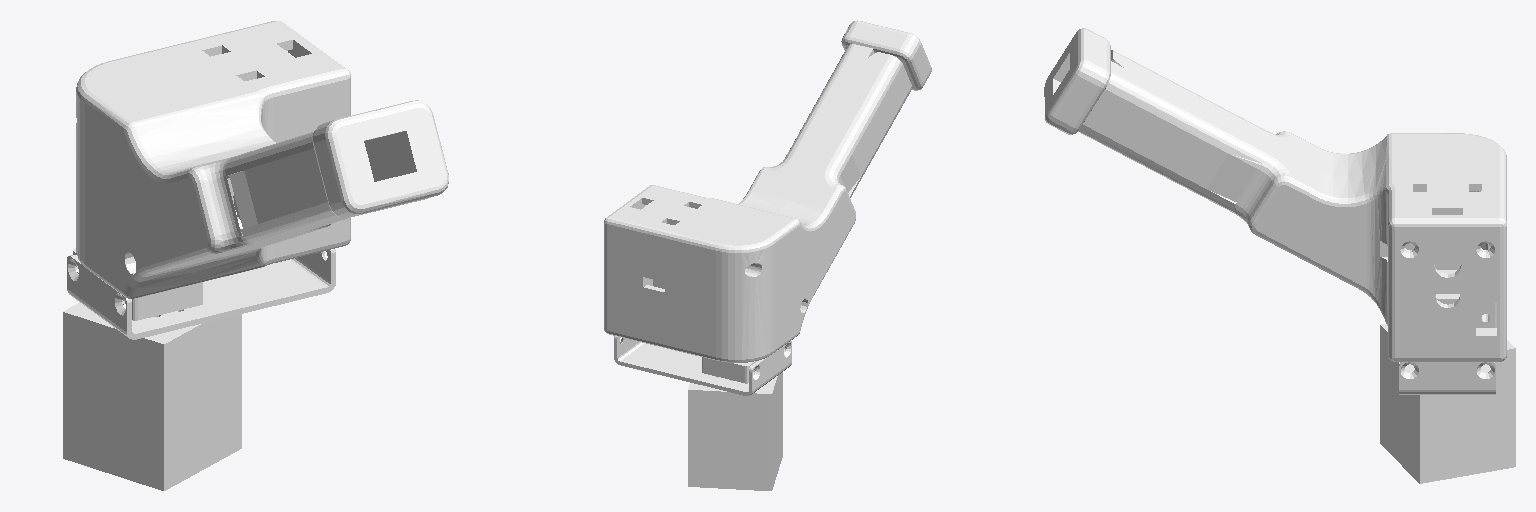
The robot description file, URDF, robot "stretch_description_S2_gripper.SLDASM":
<?xml version="1.0" encoding="utf-8"?>
<!-- This URDF was automatically created by SolidWorks to URDF Exporter! Originally created by [author] ([email redacted]) 
     Commit Version: 1.5.1-0-g916b5db  Build Version: 1.5.7152.31018
     For more information, please see http://wiki.ros.org/sw_urdf_exporter -->
<robot
  name="stretch_description_S2_gripper.SLDASM">
  <link
    name="link_wrist_yaw">
    <inertial>
      <origin
        xyz="0 -3.9E-05 -0.016495"
        rpy="0 0 0" />
      <mass
        value="0.054422" />
      <inertia
        ixx="9E-06"
        ixy="0"
        ixz="0"
        iyy="9E-06"
        iyz="0"
        izz="7E-06" />
    </inertial>
    <visual>
      <origin
        xyz="0 0 0"
        rpy="0 0 0" />
      <geometry>
        <mesh
          filename="package://stretch_description_S2_gripper.SLDASM/meshes/link_wrist_yaw.STL" />
      </geometry>
      <material
        name="">
        <color
          rgba="1 1 1 1" />
      </material>
    </visual>
    <collision>
      <origin
        xyz="0 0 0"
        rpy="0 0 0" />
      <geometry>
        <mesh
          filename="package://stretch_description_S2_gripper.SLDASM/meshes/link_wrist_yaw.STL" />
      </geometry>
    </collision>
  </link>
  <link
    name="link_gripper">
    <inertial>
      <origin
        xyz="-0.013687 0.015548 -0.035364"
        rpy="0 0 0" />
      <mass
        value="0.175929" />
      <inertia
        ixx="0.000124"
        ixy="3.7E-05"
        ixz="5.7E-05"
        iyy="0.000217"
        iyz="1.1E-05"
        izz="0.000221" />
    </inertial>
    <visual>
      <origin
        xyz="0 0 0"
        rpy="0 0 0" />
      <geometry>
        <mesh
          filename="package://stretch_description_S2_gripper.SLDASM/meshes/link_gripper.STL" />
      </geometry>
      <material
        name="">
        <color
          rgba="1 1 1 1" />
      </material>
    </visual>
    <collision>
      <origin
        xyz="0 0 0"
        rpy="0 0 0" />
      <geometry>
        <mesh
          filename="package://stretch_description_S2_gripper.SLDASM/meshes/link_gripper.STL" />
      </geometry>
    </collision>
  </link>
  <joint
    name="joint_gripper"
    type="fixed">
    <origin
      xyz="0 0 0"
      rpy="3.141592654 0 1.570796327" />
    <parent
      link="link_wrist_yaw" />
    <child
      link="link_gripper" />
    <axis
      xyz="0 0 0" />
  </joint>
  <link
    name="link_gripper_finger_right">
    <inertial>
      <origin
        xyz="-0.093921 -0.011351 0"
        rpy="0 0 0" />
      <mass
        value="0.06" />
      <inertia
        ixx="1.1E-05"
        ixy="3.6E-05"
        ixz="0"
        iyy="0.000213"
        iyz="0"
        izz="0.000223" />
    </inertial>
    <visual>
      <origin
        xyz="0 0 0"
        rpy="0 0 0" />
      <geometry>
        <mesh
          filename="package://stretch_description_S2_gripper.SLDASM/meshes/link_gripper_finger_right.STL" />
      </geometry>
      <material
        name="">
        <color
          rgba="1 1 1 1" />
      </material>
    </visual>
    <collision>
      <origin
        xyz="0 0 0"
        rpy="0 0 0" />
      <geometry>
        <mesh
          filename="package://stretch_description_S2_gripper.SLDASM/meshes/link_gripper_finger_right.STL" />
      </geometry>
    </collision>
  </link>
  <joint
    name="joint_gripper_finger_right"
    type="revolute">
    <origin
      xyz="-0.02558069591 0.01004924142 -0.03429"
      rpy="-3.141592654 -0.5235987756 0" />
    <parent
      link="link_gripper" />
    <child
      link="link_gripper_finger_right" />
    <axis
      xyz="0 0 1" />
    <limit
      lower="0"
      upper="0"
      effort="0"
      velocity="0" />
  </joint>
  <link
    name="link_gripper_fingertip_right">
    <inertial>
      <origin
        xyz="0 0 0.008126"
        rpy="0 0 0" />
      <mass
        value="0.003822" />
      <inertia
        ixx="0"
        ixy="0"
        ixz="0"
        iyy="0"
        iyz="0"
        izz="1E-06" />
    </inertial>
    <visual>
      <origin
        xyz="0 0 0"
        rpy="0 0 0" />
      <geometry>
        <mesh
          filename="package://stretch_description_S2_gripper.SLDASM/meshes/link_gripper_fingertip_right.STL" />
      </geometry>
      <material
        name="">
        <color
          rgba="1 1 1 1" />
      </material>
    </visual>
    <collision>
      <origin
        xyz="0 0 0"
        rpy="0 0 0" />
      <geometry>
        <mesh
          filename="package://stretch_description_S2_gripper.SLDASM/meshes/link_gripper_fingertip_right.STL" />
      </geometry>
    </collision>
  </link>
  <joint
    name="joint_gripper_fingertip_right"
    type="fixed">
    <origin
      xyz="-0.1901087319 -0.01491216603 0"
      rpy="-1.570796327 0 0.5870461496" />
    <parent
      link="link_gripper_finger_right" />
    <child
      link="link_gripper_fingertip_right" />
    <axis
      xyz="0 0 0" />
  </joint>
  <link
    name="link_gripper_finger_left">
    <inertial>
      <origin
        xyz="0.094071 0.011377 0"
        rpy="0 0 0" />
      <mass
        value="0.06" />
      <inertia
        ixx="1.1E-05"
        ixy="3.6E-05"
        ixz="0"
        iyy="0.000214"
        iyz="0"
        izz="0.000224" />
    </inertial>
    <visual>
      <origin
        xyz="0 0 0"
        rpy="0 0 0" />
      <geometry>
        <mesh
          filename="package://stretch_description_S2_gripper.SLDASM/meshes/link_gripper_finger_left.STL" />
      </geometry>
      <material
        name="">
        <color
          rgba="1 1 1 1" />
      </material>
    </visual>
    <collision>
      <origin
        xyz="0 0 0"
        rpy="0 0 0" />
      <geometry>
        <mesh
          filename="package://stretch_description_S2_gripper.SLDASM/meshes/link_gripper_finger_left.STL" />
      </geometry>
    </collision>
  </link>
  <joint
    name="joint_gripper_finger_left"
    type="revolute">
    <origin
      xyz="-0.02558069591 -0.01015075858 -0.03429"
      rpy="0 0.5235987756 3.141592654" />
    <parent
      link="link_gripper" />
    <child
      link="link_gripper_finger_left" />
    <axis
      xyz="0 0 -1" />
    <limit
      lower="0"
      upper="0"
      effort="0"
      velocity="0" />
  </joint>
  <link
    name="link_gripper_fingertip_left">
    <inertial>
      <origin
        xyz="0 0 0.008126"
        rpy="0 0 0" />
      <mass
        value="0.003822" />
      <inertia
        ixx="0"
        ixy="0"
        ixz="0"
        iyy="0"
        iyz="0"
        izz="1E-06" />
    </inertial>
    <visual>
      <origin
        xyz="0 0 0"
        rpy="0 0 0" />
      <geometry>
        <mesh
          filename="package://stretch_description_S2_gripper.SLDASM/meshes/link_gripper_fingertip_left.STL" />
      </geometry>
      <material
        name="">
        <color
          rgba="1 1 1 1" />
      </material>
    </visual>
    <collision>
      <origin
        xyz="0 0 0"
        rpy="0 0 0" />
      <geometry>
        <mesh
          filename="package://stretch_description_S2_gripper.SLDASM/meshes/link_gripper_fingertip_left.STL" />
      </geometry>
    </collision>
  </link>
  <joint
    name="joint_gripper_fingertip_left"
    type="fixed">
    <origin
      xyz="0.1901087319 0.01491216603 0"
      rpy="-1.570796327 0 -2.554546504" />
    <parent
      link="link_gripper_finger_left" />
    <child
      link="link_gripper_fingertip_left" />
    <axis
      xyz="0 0 0" />
  </joint>
</robot>

--- Render facts (derived) ---
The picture shows the robot from 3 angles, left to right: view 1: azimuth 30°, elevation 25°; view 2: azimuth 150°, elevation 25°; view 3: azimuth 270°, elevation 25°; orthographic projection.
Model stretch_description_S2_gripper.SLDASM with 6 links and 5 joints (2 revolute, 3 fixed), rooted at link_wrist_yaw, posed all joints at 0.
Visible links, largest first — view 1: link_gripper, link_wrist_yaw; view 2: link_gripper, link_wrist_yaw; view 3: link_gripper, link_wrist_yaw.
Boxes of the visible links, x1,y1,x2,y2 form: link_gripper: (67, 21, 448, 339); link_wrist_yaw: (63, 302, 241, 490); link_gripper: (604, 20, 931, 395); link_wrist_yaw: (688, 372, 782, 490); link_gripper: (1044, 28, 1506, 394); link_wrist_yaw: (1380, 324, 1515, 483).
Size in the robot's own frame: 0.0643 by 0.1363 by 0.1312 metres.
Meshes: 6 distinct files referenced, 2 mesh visuals loaded (2 binary STL); not drawn: 4 (reference not matched to a file when rendering).